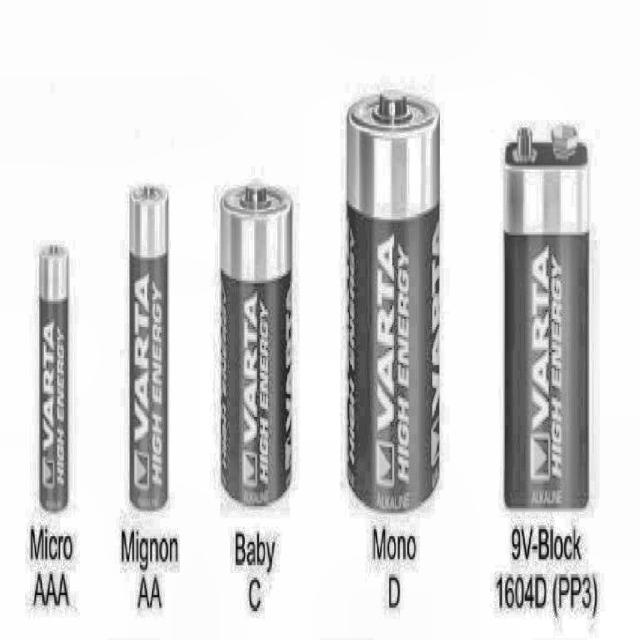drycell: (121, 180, 175, 519), (35, 232, 89, 530)
